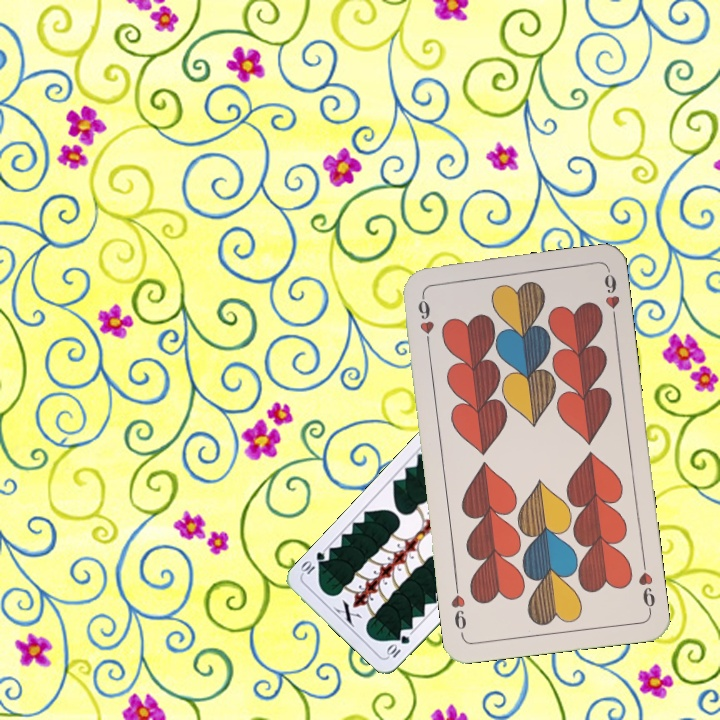G10: (383, 631, 413, 660)
H9: (634, 556, 658, 615), (414, 290, 437, 350)
